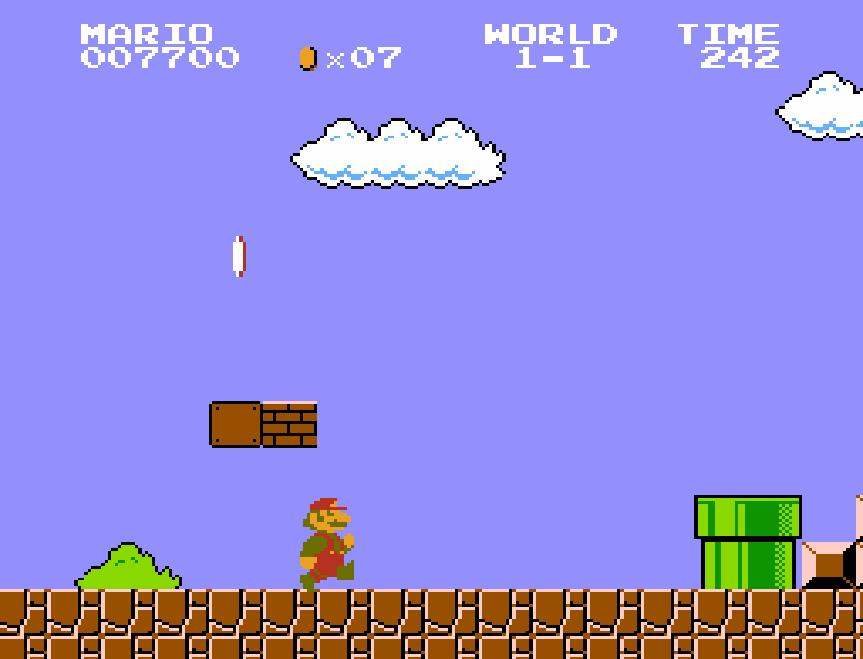big_mario: (298, 496, 356, 594)
